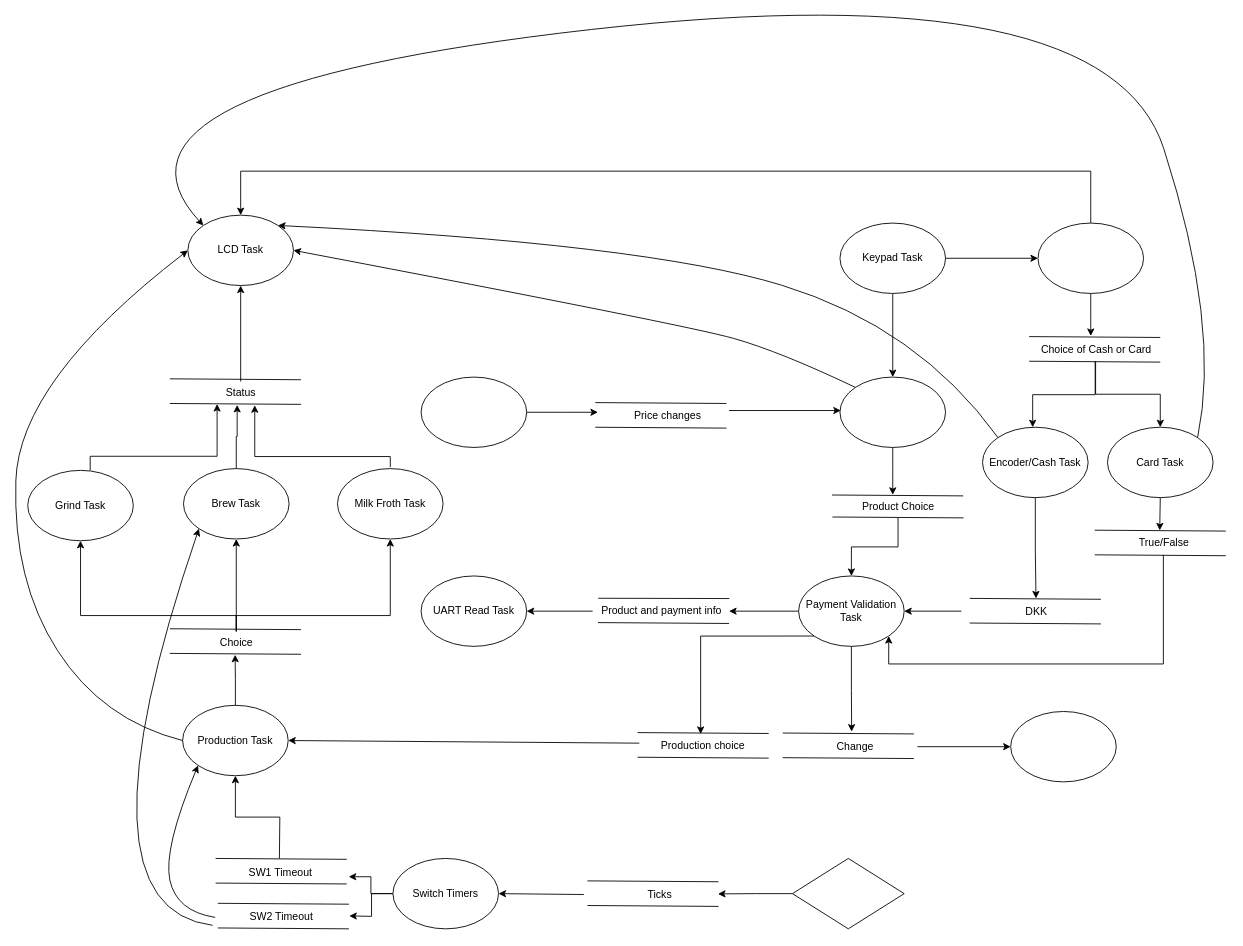
Image size: 1243x946. Some labels were removed from this diagram. Each missing label, with the centre of its shape:
"Green LED Task (Change Indicator)" belongs at [1063,746].
"Keypad Select Products Task" belongs at [892,411].
"Select Cash or Card Task" belongs at [1090,257].
"Time Interrupt" belongs at [848,893].
"UART Write Task" belongs at [473,411].
